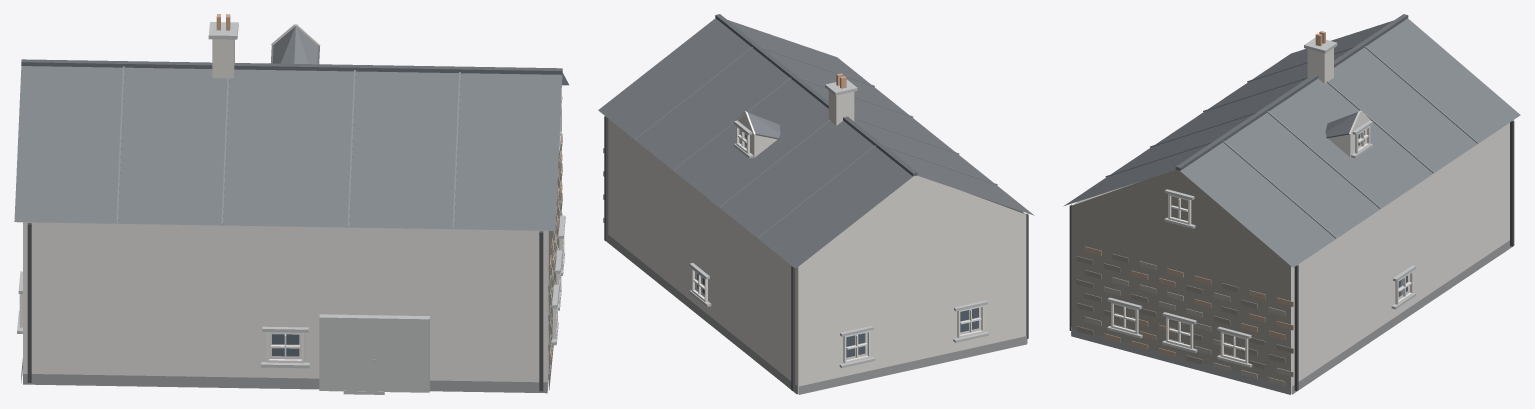
The picture shows the model from 3 angles, left to right: view 1: azimuth 30°, elevation 25°; view 2: azimuth 150°, elevation 25°; view 3: azimuth 270°, elevation 25°; orthographic projection. The views are drawn at different scales.
Visible parts, largest first — view 1: slate, harl, stone_band, plinth, slate_dk, pipe, slate_lt, frame, chim_render, rubble_dk, rubble; view 2: harl, slate, plinth, slate_lt, frame, pipe, slate_dk, stone_band, chim_render; view 3: slate, rubble, harl, plinth, frame, rubble_dk, slate_lt, stone_band, rubble_rust, rubble_lt, slate_dk, pipe (+1 smaller).
Part boxes in pixels (box(x1,y1,x2,y2)): slate: box(14, 26, 568, 230); harl: box(23, 222, 548, 390); stone_band: box(17, 22, 565, 394); plinth: box(21, 345, 553, 393); slate_dk: box(21, 45, 562, 74); pipe: box(27, 223, 543, 391); slate_lt: box(116, 66, 460, 228); frame: box(19, 24, 564, 363); chim_render: box(212, 39, 234, 78); rubble_dk: box(548, 168, 562, 380); rubble: box(549, 107, 561, 389); harl: box(608, 114, 1026, 394); slate: box(598, 18, 1034, 268); plinth: box(606, 235, 1027, 394); slate_lt: box(635, 47, 997, 238); frame: box(691, 111, 984, 363); pipe: box(604, 116, 1028, 390); slate_dk: box(715, 14, 917, 176); stone_band: box(689, 79, 988, 368); chim_render: box(828, 90, 854, 125); slate: box(1063, 18, 1520, 267); rubble: box(1071, 170, 1290, 394); harl: box(1072, 113, 1509, 394); plinth: box(1071, 240, 1512, 394); frame: box(1111, 110, 1413, 363); rubble_dk: box(1076, 253, 1293, 369); slate_lt: box(1105, 46, 1478, 238); stone_band: box(1107, 37, 1415, 367); rubble_rust: box(1084, 246, 1293, 357); rubble_lt: box(1084, 261, 1293, 386); slate_dk: box(1175, 14, 1408, 170); pipe: box(1069, 120, 1514, 390).
Bounding box in the file's own units: 18.86 × 9.81 × 17.03.
